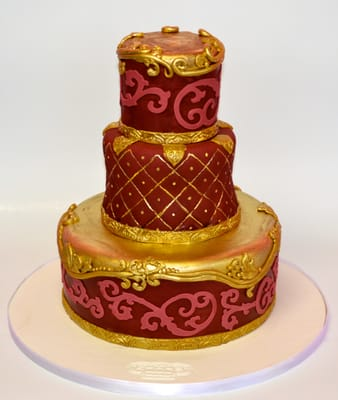sushi: (54, 22, 282, 349)
